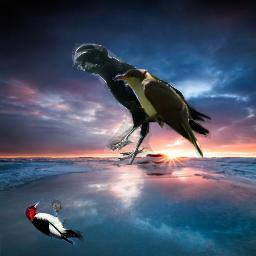Crow: (72, 43, 211, 164)
Cuckoo: (112, 69, 203, 160)
Woodpecker: (18, 197, 85, 247)
